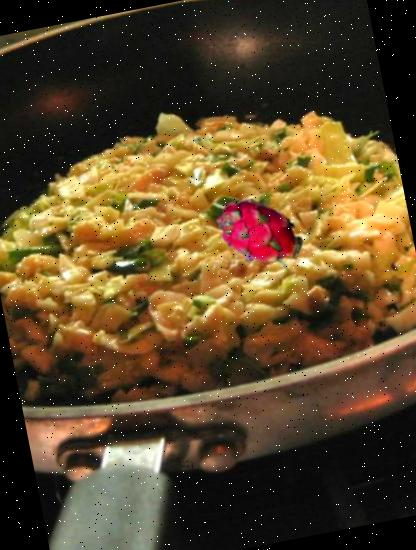Pitahaya: (206, 178, 312, 284)
